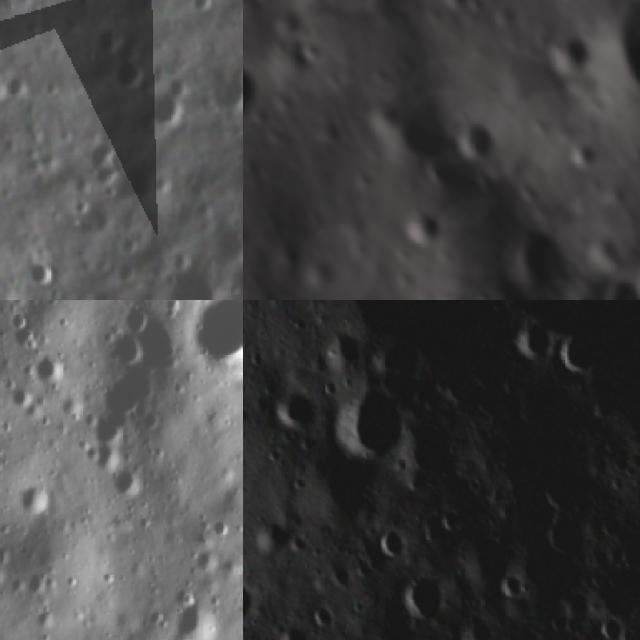crater: (330, 389, 412, 470), (596, 0, 640, 125), (189, 300, 243, 389), (398, 94, 456, 160), (538, 502, 590, 568), (81, 132, 130, 200), (393, 570, 449, 626), (553, 327, 604, 381), (151, 263, 225, 300), (514, 230, 566, 282), (169, 595, 223, 640), (268, 383, 318, 430), (202, 219, 243, 274), (80, 413, 140, 448), (458, 103, 496, 158), (140, 90, 192, 130), (504, 315, 555, 355), (204, 70, 243, 121), (403, 210, 448, 252), (12, 472, 57, 512), (243, 45, 265, 125), (553, 30, 592, 70), (108, 57, 149, 95), (110, 335, 148, 372), (31, 350, 65, 391), (496, 566, 534, 602), (377, 522, 416, 557), (243, 570, 264, 633), (110, 462, 144, 499), (119, 300, 155, 334), (598, 271, 640, 300), (440, 499, 471, 537), (596, 609, 634, 640), (30, 251, 59, 290), (272, 618, 310, 640), (234, 546, 243, 594)
